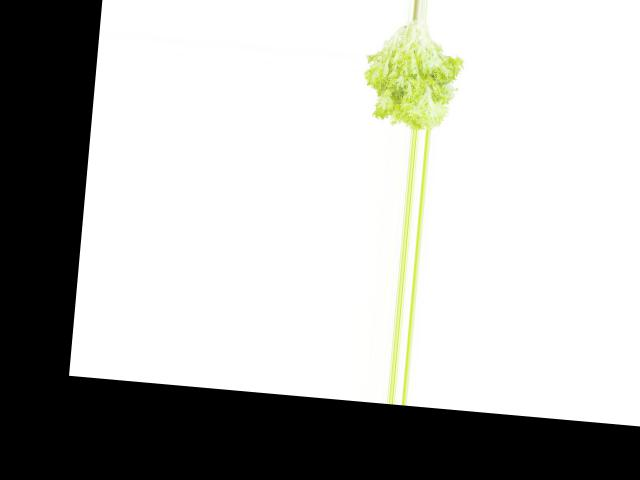lettuce: (355, 13, 468, 133)
